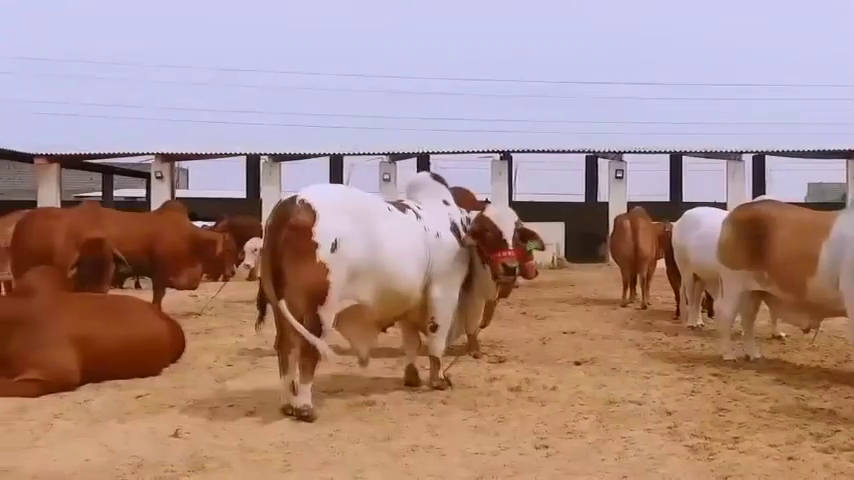bo: (257, 173, 515, 424), (714, 181, 854, 379), (1, 266, 198, 400), (99, 188, 242, 311), (8, 198, 135, 291), (662, 197, 734, 334), (597, 202, 674, 319), (235, 237, 268, 280)
